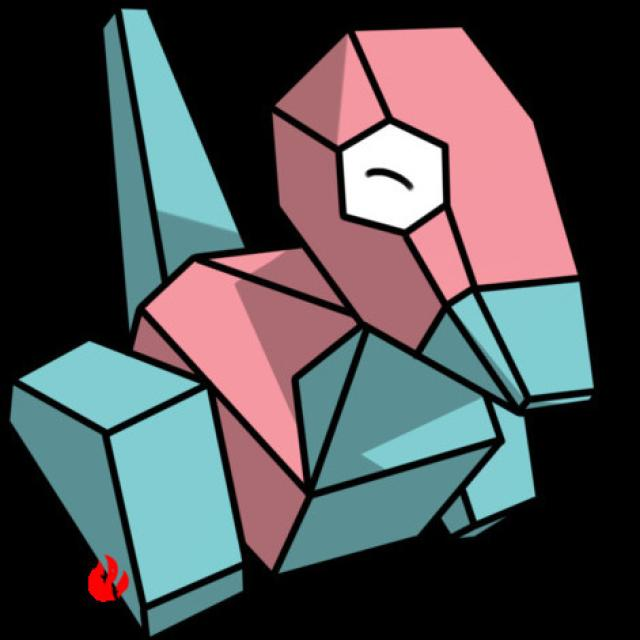Porygon: (63, 24, 596, 542)
